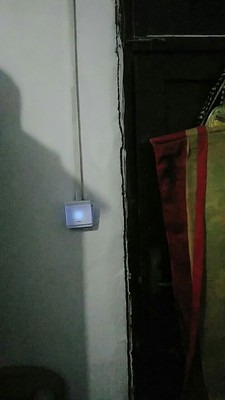switch: (65, 204, 92, 224)
